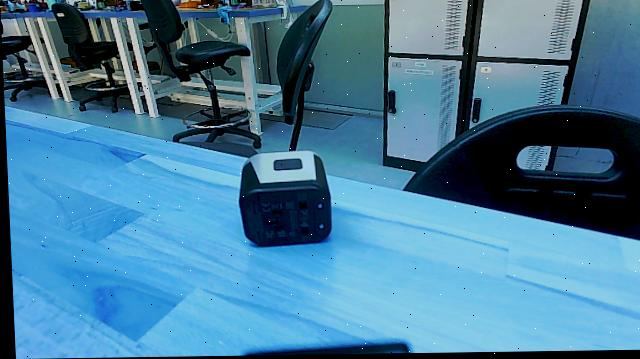adapter: (229, 153, 333, 248)
